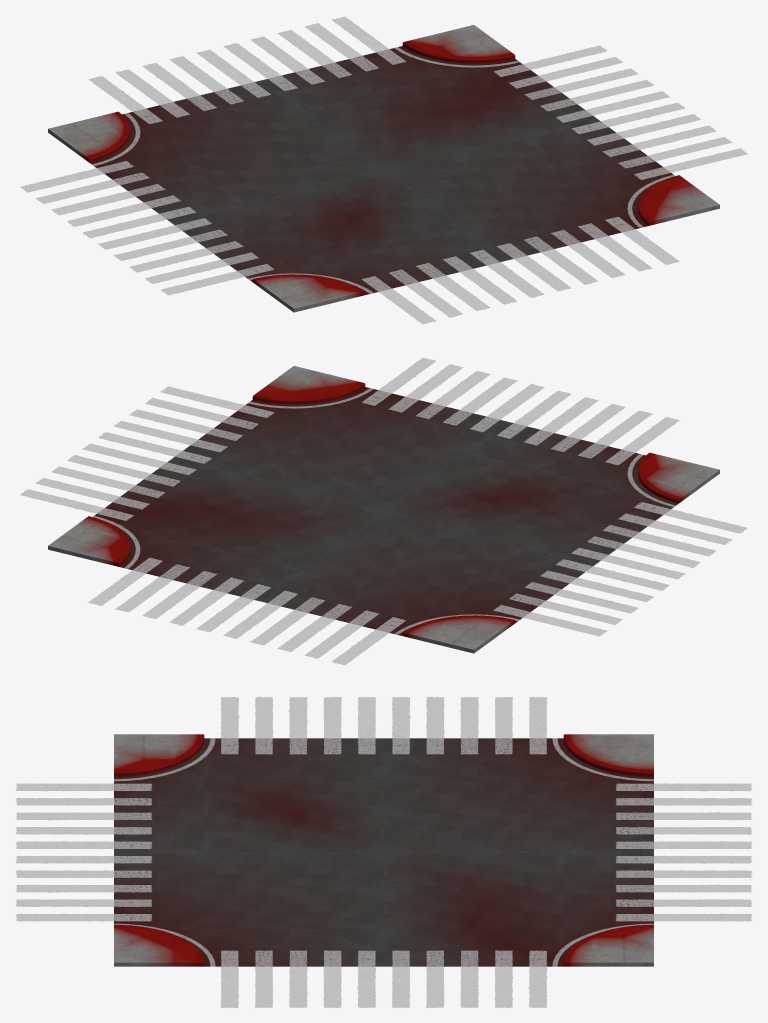
The model's file is Street_4WayIntersection.glb.
3 renders of one model, top to bottom at view 1: azimuth 30°, elevation 25°; view 2: azimuth 150°, elevation 25°; view 3: azimuth 270°, elevation 25°, orthographic. The views are drawn at different scales.
Visible parts, largest first — view 1: Street_4WayIntersection; view 2: Street_4WayIntersection; view 3: Street_4WayIntersection.
Part boxes in pixels (x1=…): Street_4WayIntersection: x1=20, y1=16, x2=747, y2=324; Street_4WayIntersection: x1=20, y1=357, x2=747, y2=665; Street_4WayIntersection: x1=16, y1=697, x2=751, y2=1007.
Size of the model in its own units: 24.67 by 0.1506 by 24.67.
3 materials, 3 textured.
